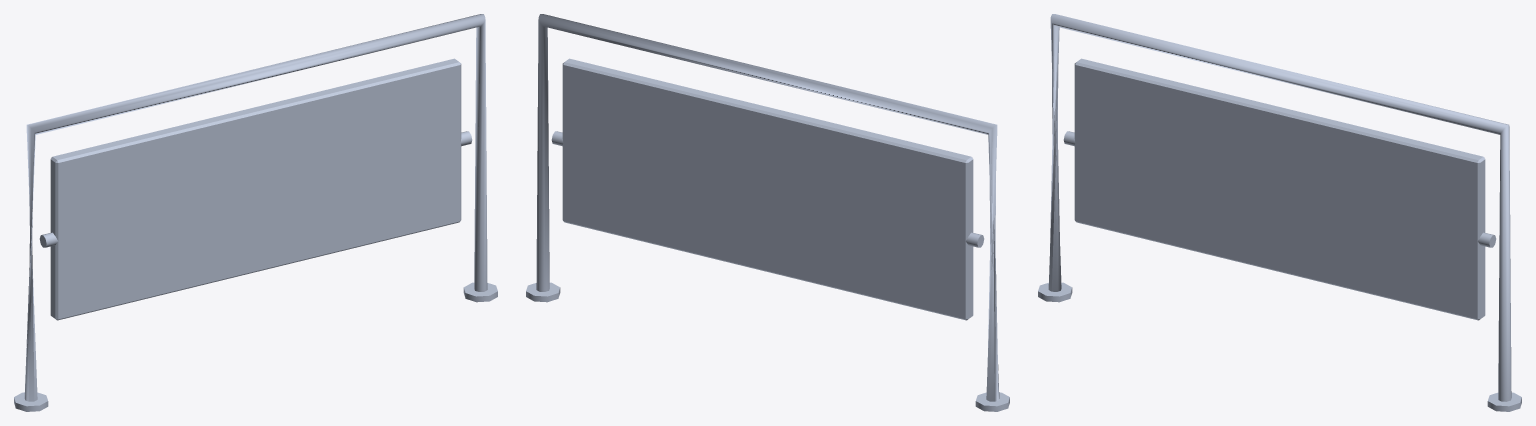
The model's file is Acorn_Spinner.glb.
3 renders of one model, left to right at view 1: azimuth 30°, elevation 25°; view 2: azimuth 150°, elevation 25°; view 3: azimuth 330°, elevation 25°, orthographic.
Visible parts, largest first — view 1: Spinner1, Deco_SpinnerWireBracket; view 2: Spinner1, Deco_SpinnerWireBracket; view 3: Spinner1, Deco_SpinnerWireBracket.
Boxes of the visible parts, box(x1,y1,x2,y2) form: Spinner1: box(39, 58, 472, 320); Deco_SpinnerWireBracket: box(14, 14, 497, 411); Spinner1: box(551, 58, 984, 320); Deco_SpinnerWireBracket: box(526, 14, 1009, 411); Spinner1: box(1063, 58, 1496, 320); Deco_SpinnerWireBracket: box(1038, 14, 1521, 411).
Size of the model in its own units: 0.0878 by 0.0489 by 0.0056.
